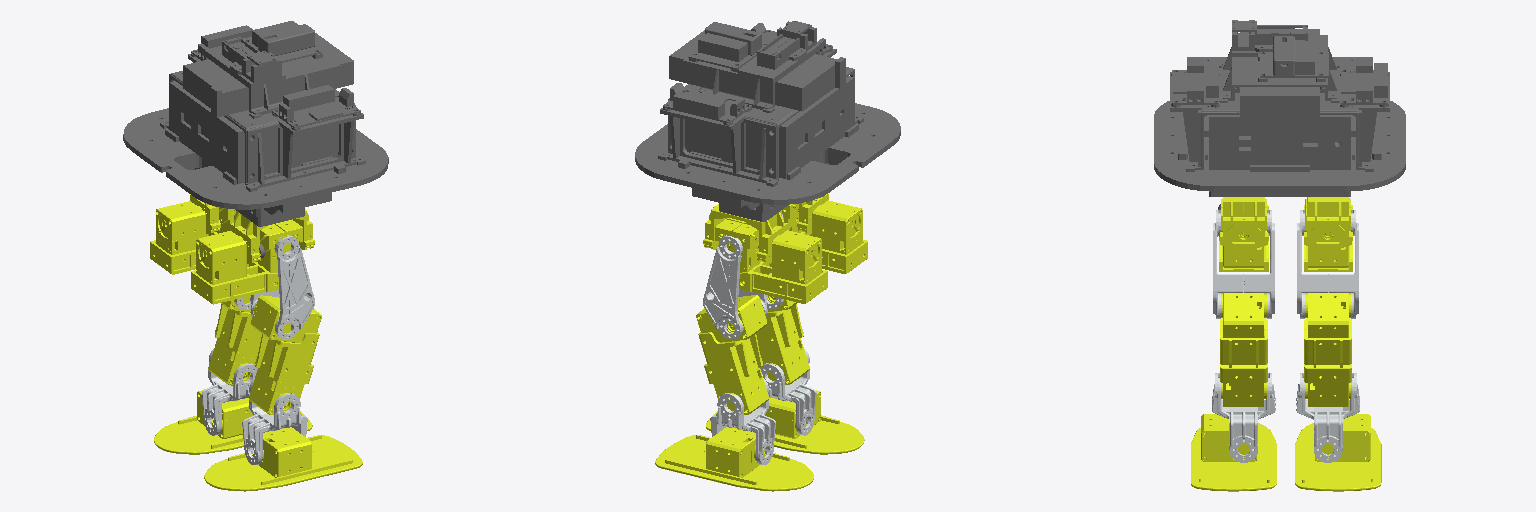
robot.urdf — exhx5_w_b_16:
<?xml version="1.0" encoding="utf-8"?>
<!-- This URDF was automatically created by SolidWorks to URDF Exporter! Originally created by [author] ([email redacted]) 
     Commit Version: 1.5.1-0-g916b5db  Build Version: 1.5.7152.31018
     For more information, please see http://wiki.ros.org/sw_urdf_exporter -->
<robot
  name="exhx5_w_b_16">
  <link
    name="body_link">
    <inertial>
      <origin
        xyz="0.00043545 0.00025536 0.10071"
        rpy="0 0 0" />
      <mass
        value="1.8238" />
      <inertia
        ixx="0.0025905"
        ixy="-5.6852E-06"
        ixz="-1.3106E-05"
        iyy="0.0024595"
        iyz="-1.261E-06"
        izz="0.0046407" />
    </inertial>
    <visual>
      <origin
        xyz="0 0 0"
        rpy="0 0 0" />
      <geometry>
        <mesh
          filename="../meshes/body_link.STL" />
      </geometry>
      <material
        name="">
        <color
          rgba="0.49804 0.49804 0.49804 1" />
      </material>
    </visual>
    <collision>
      <origin
        xyz="0 0 0"
        rpy="0 0 0" />
      <geometry>
        <mesh
          filename="../meshes/body_link.STL" />
      </geometry>
    </collision>
  </link>

  <link
    name="imu_link">
    <inertial>
      <origin
        xyz="-0.008387 1.336E-17 -0.0069463"
        rpy="0 0 0" />
      <mass
        value="0.0062931" />
      <inertia
        ixx="3.2242E-07"
        ixy="3.3527E-22"
        ixz="-6.9193E-08"
        iyy="9.2229E-07"
        iyz="-8.0392E-22"
        izz="1.1018E-06" />
    </inertial>
    <visual>
      <origin
        xyz="0 0 0"
        rpy="0 0 0" />
      <geometry>
        <mesh
          filename="../meshes/imu_link.STL" />
      </geometry>
      <material
        name="">
        <color
          rgba="0.79216 0.81961 0.93333 1" />
      </material>
    </visual>
    <collision>
      <origin
        xyz="0 0 0"
        rpy="0 0 0" />
      <geometry>
        <mesh
          filename="../meshes/imu_link.STL" />
      </geometry>
    </collision>
  </link>
  <joint
    name="imu"
    type="fixed">
    <origin
      xyz="0 0 0.0492"
      rpy="0 0 0" />
    <parent
      link="body_link" />
    <child
      link="imu_link" />
    <axis
      xyz="0 0 0" />
    <limit
      lower="-3.14"
      upper="3.14"
      effort="4"
      velocity="4" />
  </joint>
  <link
    name="l_hip_g_link">
    <inertial>
      <origin
        xyz="-0.0043797 -8.6604E-08 0.011813"
        rpy="0 0 0" />
      <mass
        value="0.061008" />
      <inertia
        ixx="1.167E-05"
        ixy="7.1767E-11"
        ixz="9.1442E-09"
        iyy="2.2342E-05"
        iyz="2.5177E-11"
        izz="2.4892E-05" />
    </inertial>
    <visual>
      <origin
        xyz="0 0 0"
        rpy="0 0 0" />
      <geometry>
        <mesh
          filename="../meshes/l_hip_g_link.STL" />
      </geometry>
      <material
        name="">
        <color
          rgba="0.9451 1 0.18431 1" />
      </material>
    </visual>
    <collision>
      <origin
        xyz="0 0 0"
        rpy="0 0 0" />
      <geometry>
        <mesh
          filename="../meshes/l_hip_g_link.STL" />
      </geometry>
    </collision>
  </link>
  <joint
    name="l_hip_g"
    type="fixed">
    <origin
      xyz="-.003 .040 0"
      rpy="0 0 0" />
    <parent
      link="body_link" />
    <child
      link="l_hip_g_link" />
    <axis
      xyz="0 0 0" />
  </joint>
  <link
    name="l_hip_roll_link">
    <inertial>
      <origin
        xyz="0.013831 0.00033457 0.025453"
        rpy="0 0 0" />
      <mass
        value="0.2969" />
      <inertia
        ixx="7.8136E-05"
        ixy="7.265E-07"
        ixz="-6.9809E-08"
        iyy="9.2183E-05"
        iyz="-5.6881E-11"
        izz="7.1034E-05" />
    </inertial>
    <visual>
      <origin
        xyz="0 0 0"
        rpy="0 0 0" />
      <geometry>
        <mesh
          filename="../meshes/l_hip_roll_link.STL" />
      </geometry>
      <material
        name="">
        <color
          rgba="0.9451 1 0.18431 1" />
      </material>
    </visual>
    <collision>
      <origin
        xyz="0 0 0"
        rpy="0 0 0" />
      <geometry>
        <mesh
          filename="../meshes/l_hip_roll_link.STL" />
      </geometry>
    </collision>
  </link>
  <joint
    name="l_hip_roll"
    type="revolute">
    <origin
      xyz="0 0 0"
      rpy="3.1416 1.5708 0" />
    <parent
      link="l_hip_g_link" />
    <child
      link="l_hip_roll_link" />
    <axis
      xyz="0 0 1" />
    <limit
      lower="-3.14"
      upper="3.14"
      effort="4"
      velocity="4" />
  </joint>
  <link
    name="l_hip_pitch_link">
    <inertial>
      <origin
        xyz="0.041225 -0.007321 -5.0713E-08"
        rpy="0 0 0" />
      <mass
        value="0.051592" />
      <inertia
        ixx="2.7959E-05"
        ixy="2.0752E-06"
        ixz="-8.0934E-11"
        iyy="4.8156E-05"
        iyz="3.6317E-11"
        izz="2.9604E-05" />
    </inertial>
    <visual>
      <origin
        xyz="0 0 0"
        rpy="0 0 0" />
      <geometry>
        <mesh
          filename="../meshes/l_hip_pitch_link.STL" />
      </geometry>
      <material
        name="">
        <color
          rgba="0.89804 0.91765 0.92941 1" />
      </material>
    </visual>
    <collision>
      <origin
        xyz="0 0 0"
        rpy="0 0 0" />
      <geometry>
        <mesh
          filename="../meshes/l_hip_pitch_link.STL" />
      </geometry>
    </collision>
  </link>
  <joint
    name="l_hip_pitch"
    type="revolute">
    <origin
      xyz="0 0 0"
      rpy="1.5708 0 0" />
    <parent
      link="l_hip_roll_link" />
    <child
      link="l_hip_pitch_link" />
    <axis
      xyz="0 0 1" />
    <limit
      lower="-3.14"
      upper="3.14"
      effort="4"
      velocity="4" />
  </joint>
  <link
    name="l_knee_link">
    <inertial>
      <origin
        xyz="0.033756 -0.0084189 -6.6115E-09"
        rpy="0 0 0" />
      <mass
        value="0.28878" />
      <inertia
        ixx="6.6724E-05"
        ixy="7.5004E-07"
        ixz="-8.4578E-07"
        iyy="6.5699E-05"
        iyz="4.1085E-07"
        izz="7.0381E-05" />
    </inertial>
    <visual>
      <origin
        xyz="0 0 0"
        rpy="0 0 0" />
      <geometry>
        <mesh
          filename="../meshes/l_knee_link.STL" />
      </geometry>
      <material
        name="">
        <color
          rgba="0.9451 1 0.18431 1" />
      </material>
    </visual>
    <collision>
      <origin
        xyz="0 0 0"
        rpy="0 0 0" />
      <geometry>
        <mesh
          filename="../meshes/l_knee_link.STL" />
      </geometry>
    </collision>
  </link>
  <joint
    name="l_knee"
    type="revolute">
    <origin
      xyz="0.075954 0 0"
      rpy="0 0 0" />
    <parent
      link="l_hip_pitch_link" />
    <child
      link="l_knee_link" />
    <axis
      xyz="0 0 1" />
    <limit
      lower="-3.14"
      upper="3.14"
      effort="4"
      velocity="4" />
  </joint>
  <link
    name="l_ank_pitch_link">
    <inertial>
      <origin
        xyz="0.022786 -7.3909E-09 -7.1981E-06"
        rpy="0 0 0" />
      <mass
        value="0.044772" />
      <inertia
        ixx="1.777E-05"
        ixy="8.555E-14"
        ixz="-3.3713E-09"
        iyy="1.7119E-05"
        iyz="1.7593E-11"
        izz="1.8661E-05" />
    </inertial>
    <visual>
      <origin
        xyz="0 0 0"
        rpy="0 0 0" />
      <geometry>
        <mesh
          filename="../meshes/l_ank_pitch_link.STL" />
      </geometry>
      <material
        name="">
        <color
          rgba="0.89804 0.91765 0.92941 1" />
      </material>
    </visual>
    <collision>
      <origin
        xyz="0 0 0"
        rpy="0 0 0" />
      <geometry>
        <mesh
          filename="../meshes/l_ank_pitch_link.STL" />
      </geometry>
    </collision>
  </link>
  <joint
    name="l_ank_pitch"
    type="revolute">
    <origin
      xyz="0.074602 0 0"
      rpy="3.1416 0 0" />
    <parent
      link="l_knee_link" />
    <child
      link="l_ank_pitch_link" />
    <axis
      xyz="0 0 1" />
    <limit
      lower="-3.14"
      upper="3.14"
      effort="4"
      velocity="4" />
  </joint>
  <link
    name="l_ank_roll_link">
    <inertial>
      <origin
        xyz="0.0047069 0.010728 0.0015299"
        rpy="0 0 0" />
      <mass
        value="0.16774" />
      <inertia
        ixx="0.00012039"
        ixy="-3.7428E-09"
        ixz="4.4069E-08"
        iyy="8.7735E-05"
        iyz="7.0469E-07"
        izz="4.7866E-05" />
    </inertial>
    <visual>
      <origin
        xyz="0 0 0"
        rpy="0 0 0" />
      <geometry>
        <mesh
          filename="../meshes/l_ank_roll_link.STL" />
      </geometry>
      <material
        name="">
        <color
          rgba="0.9451 1 0.18431 1" />
      </material>
    </visual>
    <collision>
      <origin
        xyz="0 0 0"
        rpy="0 0 0" />
      <geometry>
        <mesh
          filename="../meshes/l_ank_roll_link.STL" />
      </geometry>
    </collision>
  </link>
  <joint
    name="l_ank_roll"
    type="revolute">
    <origin
      xyz="0.0465 0 0"
      rpy="-1.5708 0 0" />
    <parent
      link="l_ank_pitch_link" />
    <child
      link="l_ank_roll_link" />
    <axis
      xyz="0 0 1" />
    <limit
      lower="-3.14"
      upper="3.14"
      effort="4"
      velocity="4" />
  </joint>
  <link
    name="r_hip_g_link">
    <inertial>
      <origin
        xyz="-0.0043797 -8.6604E-08 0.011813"
        rpy="0 0 0" />
      <mass
        value="0.061008" />
      <inertia
        ixx="1.167E-05"
        ixy="7.1767E-11"
        ixz="9.1442E-09"
        iyy="2.2342E-05"
        iyz="2.5177E-11"
        izz="2.4892E-05" />
    </inertial>
    <visual>
      <origin
        xyz="0 0 0"
        rpy="0 0 0" />
      <geometry>
        <mesh
          filename="../meshes/r_hip_g_link.STL" />
      </geometry>
      <material
        name="">
        <color
          rgba="0.9451 1 0.18431 1" />
      </material>
    </visual>
    <collision>
      <origin
        xyz="0 0 0"
        rpy="0 0 0" />
      <geometry>
        <mesh
          filename="../meshes/r_hip_g_link.STL" />
      </geometry>
    </collision>
  </link>
  <joint
    name="r_hip_g"
    type="fixed">
    <origin
      xyz="-.003 -.030 0"
      rpy="0 0 0" />
    <parent
      link="body_link" />
    <child
      link="r_hip_g_link" />
    <axis
      xyz="0 0 0" />
  </joint>
  <link
    name="r_hip_roll_link">
    <inertial>
      <origin
        xyz="0.013831 0.00033457 0.025453"
        rpy="0 0 0" />
      <mass
        value="0.2969" />
      <inertia
        ixx="7.8136E-05"
        ixy="7.265E-07"
        ixz="-6.9809E-08"
        iyy="9.2183E-05"
        iyz="-5.6881E-11"
        izz="7.1034E-05" />
    </inertial>
    <visual>
      <origin
        xyz="0 0 0"
        rpy="0 0 0" />
      <geometry>
        <mesh
          filename="../meshes/r_hip_roll_link.STL" />
      </geometry>
      <material
        name="">
        <color
          rgba="0.9451 1 0.18431 1" />
      </material>
    </visual>
    <collision>
      <origin
        xyz="0 0 0"
        rpy="0 0 0" />
      <geometry>
        <mesh
          filename="../meshes/r_hip_roll_link.STL" />
      </geometry>
    </collision>
  </link>
  <joint
    name="r_hip_roll"
    type="revolute">
    <origin
      xyz="0 0 0"
      rpy="3.1416 1.5708 0" />
    <parent
      link="r_hip_g_link" />
    <child
      link="r_hip_roll_link" />
    <axis
      xyz="0 0 1" />
    <limit
      lower="-3.14"
      upper="3.14"
      effort="4"
      velocity="4" />
  </joint>
  <link
    name="r_hip_pitch_link">
    <inertial>
      <origin
        xyz="0.041225 0.007321 5.0713E-08"
        rpy="0 0 0" />
      <mass
        value="0.051592" />
      <inertia
        ixx="2.7959E-05"
        ixy="-2.0752E-06"
        ixz="8.0934E-11"
        iyy="4.8156E-05"
        iyz="3.6317E-11"
        izz="2.9604E-05" />
    </inertial>
    <visual>
      <origin
        xyz="0 0 0"
        rpy="0 0 0" />
      <geometry>
        <mesh
          filename="../meshes/r_hip_pitch_link.STL" />
      </geometry>
      <material
        name="">
        <color
          rgba="0.89804 0.91765 0.92941 1" />
      </material>
    </visual>
    <collision>
      <origin
        xyz="0 0 0"
        rpy="0 0 0" />
      <geometry>
        <mesh
          filename="../meshes/r_hip_pitch_link.STL" />
      </geometry>
    </collision>
  </link>
  <joint
    name="r_hip_pitch"
    type="revolute">
    <origin
      xyz="0 0 0"
      rpy="-1.5708 0 0" />
    <parent
      link="r_hip_roll_link" />
    <child
      link="r_hip_pitch_link" />
    <axis
      xyz="0 0 1" />
    <limit
      lower="-3.14"
      upper="3.14"
      effort="4"
      velocity="4" />
  </joint>
  <link
    name="r_knee_link">
    <inertial>
      <origin
        xyz="0.033757 0.0084176 6.6115E-09"
        rpy="0 0 0" />
      <mass
        value="0.28878" />
      <inertia
        ixx="6.6724E-05"
        ixy="-7.5008E-07"
        ixz="8.458E-07"
        iyy="6.5699E-05"
        iyz="4.1081E-07"
        izz="7.0381E-05" />
    </inertial>
    <visual>
      <origin
        xyz="0 0 0"
        rpy="0 0 0" />
      <geometry>
        <mesh
          filename="../meshes/r_knee_link.STL" />
      </geometry>
      <material
        name="">
        <color
          rgba="0.9451 1 0.18431 1" />
      </material>
    </visual>
    <collision>
      <origin
        xyz="0 0 0"
        rpy="0 0 0" />
      <geometry>
        <mesh
          filename="../meshes/r_knee_link.STL" />
      </geometry>
    </collision>
  </link>
  <joint
    name="r_knee"
    type="revolute">
    <origin
      xyz="0.075954 0 0"
      rpy="0 0 0" />
    <parent
      link="r_hip_pitch_link" />
    <child
      link="r_knee_link" />
    <axis
      xyz="0 0 1" />
    <limit
      lower="-3.14"
      upper="3.14"
      effort="4"
      velocity="4" />
  </joint>
  <link
    name="r_ank_pitch_link">
    <inertial>
      <origin
        xyz="0.025786 -7.3887E-09 -7.1981E-06"
        rpy="0 0 0" />
      <mass
        value="0.044772" />
      <inertia
        ixx="1.777E-05"
        ixy="8.5434E-14"
        ixz="-3.3713E-09"
        iyy="1.7119E-05"
        iyz="1.7592E-11"
        izz="1.8661E-05" />
    </inertial>
    <visual>
      <origin
        xyz="0 0 0"
        rpy="0 0 0" />
      <geometry>
        <mesh
          filename="../meshes/r_ank_pitch_link.STL" />
      </geometry>
      <material
        name="">
        <color
          rgba="0.89804 0.91765 0.92941 1" />
      </material>
    </visual>
    <collision>
      <origin
        xyz="0 0 0"
        rpy="0 0 0" />
      <geometry>
        <mesh
          filename="../meshes/r_ank_pitch_link.STL" />
      </geometry>
    </collision>
  </link>
  <joint
    name="r_ank_pitch"
    type="revolute">
    <origin
      xyz="0.071602 0 0"
      rpy="3.1416 0 0" />
    <parent
      link="r_knee_link" />
    <child
      link="r_ank_pitch_link" />
    <axis
      xyz="0 0 1" />
    <limit
      lower="-3.14"
      upper="3.14"
      effort="4"
      velocity="4" />
  </joint>
  <link
    name="r_ank_roll_link">
    <inertial>
      <origin
        xyz="0.0077069 -0.010728 0.0015299"
        rpy="0 0 0" />
      <mass
        value="0.16774" />
      <inertia
        ixx="0.00012039"
        ixy="3.743E-09"
        ixz="4.407E-08"
        iyy="8.7735E-05"
        iyz="-7.0467E-07"
        izz="4.7866E-05" />
    </inertial>
    <visual>
      <origin
        xyz="0 0 0"
        rpy="0 0 0" />
      <geometry>
        <mesh
          filename="../meshes/r_ank_roll_link.STL" />
      </geometry>
      <material
        name="">
        <color
          rgba="0.9451 1 0.18431 1" />
      </material>
    </visual>
    <collision>
      <origin
        xyz="0 0 0"
        rpy="0 0 0" />
      <geometry>
        <mesh
          filename="../meshes/r_ank_roll_link.STL" />
      </geometry>
    </collision>
  </link>
  <joint
    name="r_ank_roll"
    type="revolute">
    <origin
      xyz="0.0465 0 0"
      rpy="1.5708 0 0" />
    <parent
      link="r_ank_pitch_link" />
    <child
      link="r_ank_roll_link" />
    <axis
      xyz="0 0 1" />
    <limit
      lower="-3.14"
      upper="3.14"
      effort="4"
      velocity="4" />
  </joint>
  <transmission name="r_hip_roll_tran">
    <type>transmission_interface/SimpleTransmission</type>
    <joint name="r_hip_roll">
      <hardwareInterface>hardware_interface/EffortJointInterface</hardwareInterface>
    </joint>
    <actuator name="r_hip_roll_motor">
      <hardwareInterface>hardware_interface/EffortJointInterface</hardwareInterface>
      <mechanicalReduction>1</mechanicalReduction>
    </actuator>
  </transmission>
  <transmission name="r_hip_pitch_tran">
    <type>transmission_interface/SimpleTransmission</type>
    <joint name="r_hip_pitch">
      <hardwareInterface>hardware_interface/EffortJointInterface</hardwareInterface>
    </joint>
    <actuator name="r_hip_pitch_motor">
      <hardwareInterface>hardware_interface/EffortJointInterface</hardwareInterface>
      <mechanicalReduction>1</mechanicalReduction>
    </actuator>
  </transmission>
  <transmission name="r_knee_tran">
    <type>transmission_interface/SimpleTransmission</type>
    <joint name="r_knee">
      <hardwareInterface>hardware_interface/EffortJointInterface</hardwareInterface>
    </joint>
    <actuator name="r_knee_motor">
      <hardwareInterface>hardware_interface/EffortJointInterface</hardwareInterface>
      <mechanicalReduction>1</mechanicalReduction>
    </actuator>
  </transmission>
  <transmission name="r_ank_pitch_tran">
    <type>transmission_interface/SimpleTransmission</type>
    <joint name="r_ank_pitch">
      <hardwareInterface>hardware_interface/EffortJointInterface</hardwareInterface>
    </joint>
    <actuator name="r_ank_pitch_motor">
      <hardwareInterface>hardware_interface/EffortJointInterface</hardwareInterface>
      <mechanicalReduction>1</mechanicalReduction>
    </actuator>
  </transmission>
  <transmission name="r_ank_roll_tran">
    <type>transmission_interface/SimpleTransmission</type>
    <joint name="r_ank_roll">
      <hardwareInterface>hardware_interface/EffortJointInterface</hardwareInterface>
    </joint>
    <actuator name="r_ank_roll_motor">
      <hardwareInterface>hardware_interface/EffortJointInterface</hardwareInterface>
      <mechanicalReduction>1</mechanicalReduction>
    </actuator>
  </transmission>
  <transmission name="l_hip_roll_tran">
    <type>transmission_interface/SimpleTransmission</type>
    <joint name="l_hip_roll">
      <hardwareInterface>hardware_interface/EffortJointInterface</hardwareInterface>
    </joint>
    <actuator name="l_hip_roll_motor">
      <hardwareInterface>hardware_interface/EffortJointInterface</hardwareInterface>
      <mechanicalReduction>1</mechanicalReduction>
    </actuator>
  </transmission>
  <transmission name="l_hip_pitch_tran">
    <type>transmission_interface/SimpleTransmission</type>
    <joint name="l_hip_pitch">
      <hardwareInterface>hardware_interface/EffortJointInterface</hardwareInterface>
    </joint>
    <actuator name="l_hip_pitch_motor">
      <hardwareInterface>hardware_interface/EffortJointInterface</hardwareInterface>
      <mechanicalReduction>1</mechanicalReduction>
    </actuator>
  </transmission>
  <transmission name="l_knee_tran">
    <type>transmission_interface/SimpleTransmission</type>
    <joint name="l_knee">
      <hardwareInterface>hardware_interface/EffortJointInterface</hardwareInterface>
    </joint>
    <actuator name="l_knee_motor">
      <hardwareInterface>hardware_interface/EffortJointInterface</hardwareInterface>
      <mechanicalReduction>1</mechanicalReduction>
    </actuator>
  </transmission>
  <transmission name="l_ank_pitch_tran">
    <type>transmission_interface/SimpleTransmission</type>
    <joint name="l_ank_pitch">
      <hardwareInterface>hardware_interface/EffortJointInterface</hardwareInterface>
    </joint>
    <actuator name="l_ank_pitch_motor">
      <hardwareInterface>hardware_interface/EffortJointInterface</hardwareInterface>
      <mechanicalReduction>1</mechanicalReduction>
    </actuator>
  </transmission>
  <transmission name="l_ank_roll_tran">
    <type>transmission_interface/SimpleTransmission</type>
    <joint name="l_ank_roll">
      <hardwareInterface>hardware_interface/EffortJointInterface</hardwareInterface>
    </joint>
    <actuator name="l_ank_roll_motor">
      <hardwareInterface>hardware_interface/EffortJointInterface</hardwareInterface>
      <mechanicalReduction>1</mechanicalReduction>
    </actuator>
  </transmission>
</robot>

--- Facts derived from the render (not from the file) ---
3 views of the same robot in one strip: view 1: azimuth 30°, elevation 25°; view 2: azimuth 150°, elevation 25°; view 3: azimuth 270°, elevation 25° (orthographic).
Model exhx5_w_b_16 with 14 links and 13 joints (10 revolute, 3 fixed), rooted at body_link, posed every joint at zero.
Links seen in each view (by area): view 1: body_link, r_ank_roll_link, r_hip_roll_link, r_knee_link, l_hip_roll_link, l_ank_roll_link, r_hip_pitch_link, l_knee_link, r_ank_pitch_link, l_ank_pitch_link, r_hip_g_link; view 2: body_link, l_ank_roll_link, l_hip_roll_link, l_knee_link, r_hip_roll_link, r_ank_roll_link, l_hip_pitch_link, r_knee_link, l_ank_pitch_link, r_ank_pitch_link, l_hip_g_link, r_hip_g_link; view 3: body_link, l_knee_link, r_knee_link, l_ank_roll_link, r_ank_roll_link, l_ank_pitch_link, r_ank_pitch_link, l_hip_pitch_link, r_hip_pitch_link, r_hip_g_link, l_hip_g_link, r_hip_roll_link (+1 smaller).
Link boxes in pixels (<box>): body_link: <box>123,21,388,257</box>; r_ank_roll_link: <box>204,427,362,491</box>; r_hip_roll_link: <box>191,219,302,304</box>; r_knee_link: <box>249,295,321,414</box>; l_hip_roll_link: <box>150,201,235,274</box>; l_ank_roll_link: <box>154,390,312,454</box>; r_hip_pitch_link: <box>251,236,314,339</box>; l_knee_link: <box>208,296,261,385</box>; r_ank_pitch_link: <box>242,378,307,464</box>; l_ank_pitch_link: <box>202,349,257,435</box>; r_hip_g_link: <box>230,209,314,263</box>; body_link: <box>635,21,900,221</box>; l_ank_roll_link: <box>655,427,813,491</box>; l_hip_roll_link: <box>715,218,827,303</box>; l_knee_link: <box>696,295,768,414</box>; r_hip_roll_link: <box>782,200,867,273</box>; r_ank_roll_link: <box>706,390,864,454</box>; l_hip_pitch_link: <box>703,235,767,339</box>; r_knee_link: <box>756,295,809,384</box>; l_ank_pitch_link: <box>710,378,775,464</box>; r_ank_pitch_link: <box>760,348,816,435</box>; l_hip_g_link: <box>703,204,787,263</box>; r_hip_g_link: <box>797,194,828,233</box>; body_link: <box>1154,20,1405,209</box>; l_knee_link: <box>1304,293,1351,406</box>; r_knee_link: <box>1220,293,1267,406</box>; l_ank_roll_link: <box>1295,414,1381,491</box>; r_ank_roll_link: <box>1191,414,1276,491</box>; l_ank_pitch_link: <box>1296,373,1359,462</box>; r_ank_pitch_link: <box>1212,373,1275,462</box>; l_hip_pitch_link: <box>1297,210,1358,318</box>; r_hip_pitch_link: <box>1213,210,1274,318</box>; r_hip_g_link: <box>1219,197,1268,246</box>; l_hip_g_link: <box>1304,197,1352,246</box>; r_hip_roll_link: <box>1219,199,1268,271</box>.
Size in the robot's own frame: 0.185 by 0.21 by 0.3893 metres.
14 mesh visuals loaded from 14 distinct referenced files (14 binary STL).